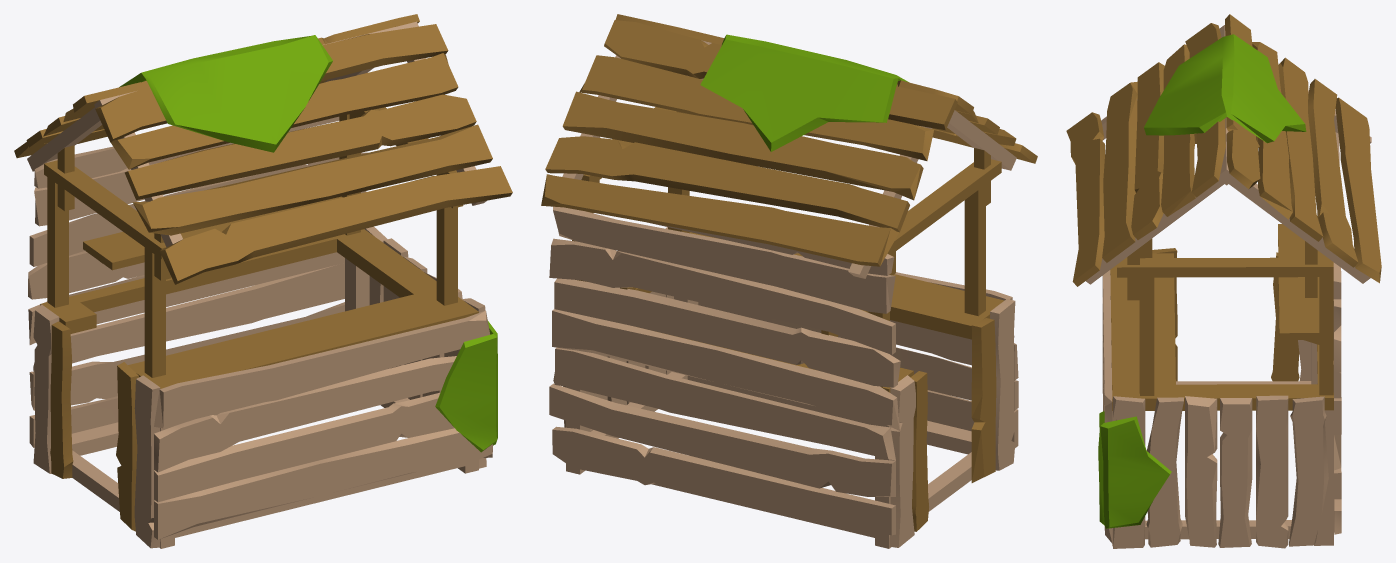
File: shack.fbx
The picture shows the model from 3 angles, left to right: view 1: azimuth 30°, elevation 25°; view 2: azimuth 150°, elevation 25°; view 3: azimuth 270°, elevation 25°; orthographic projection. The views are drawn at different scales.
Parts seen in each view (by area): view 1: shack; view 2: shack; view 3: shack.
Boxes of the visible parts, x1,y1,x2,y2 form: shack: (14, 14, 512, 548); shack: (541, 14, 1037, 548); shack: (1066, 14, 1381, 548).
Bounding box in the file's own units: 3.76 × 4.29 × 3.15.
